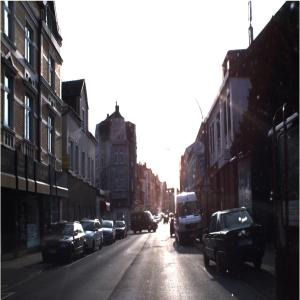DANGER: (202, 170, 214, 189)
